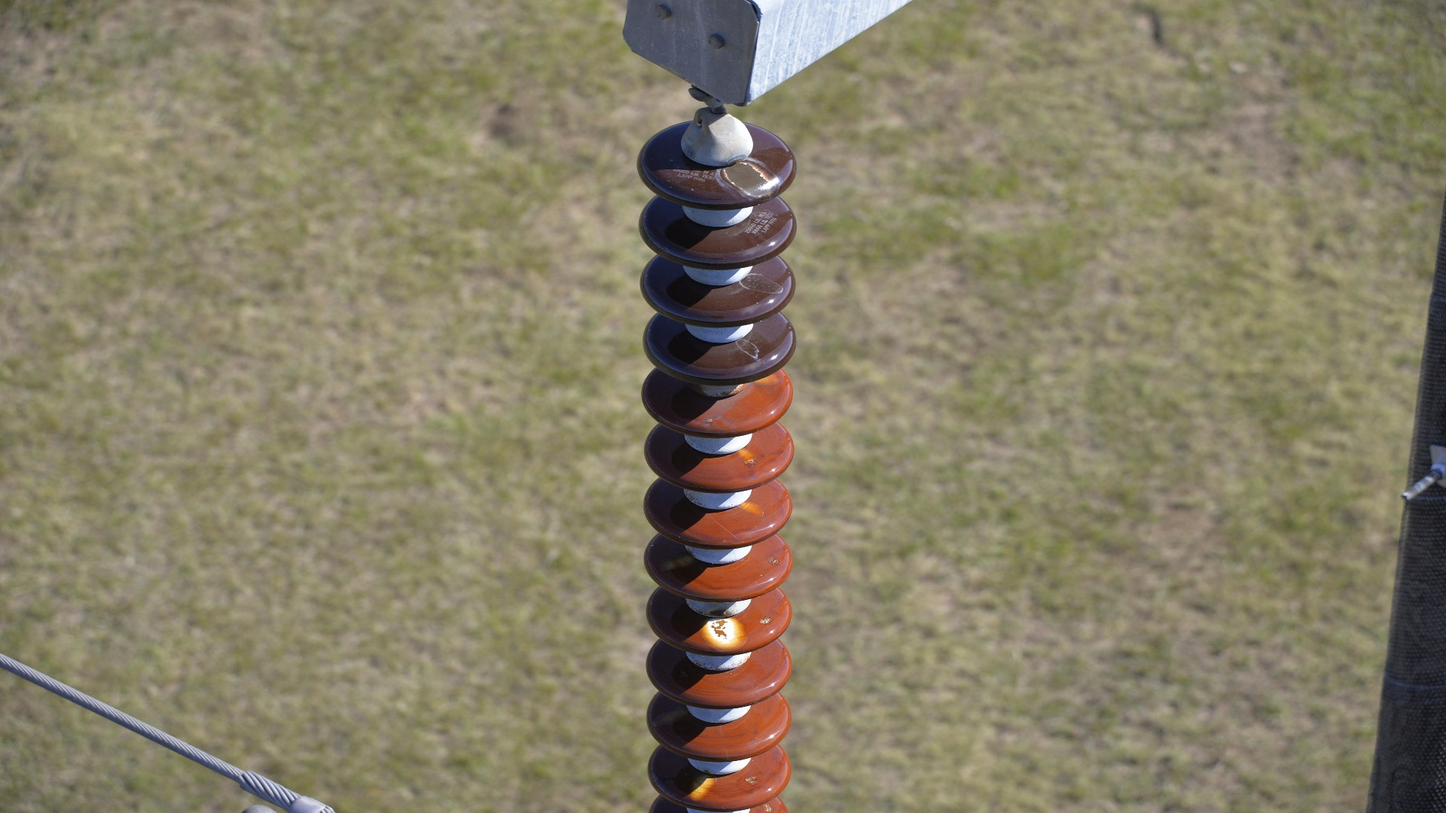insulator: (633, 117, 801, 813)
